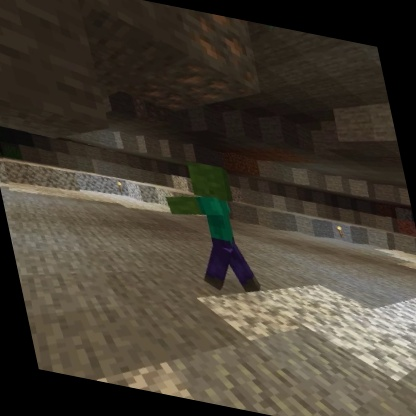zombie: (153, 151, 268, 303)
